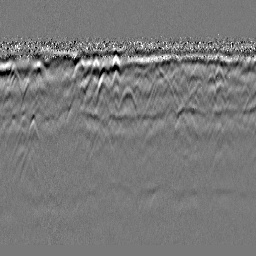cavity: (116, 84, 139, 116)
